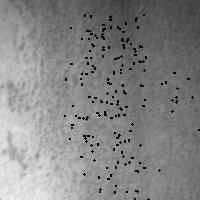pitted_surface: (1, 1, 200, 198), (80, 114, 139, 173), (65, 26, 123, 84), (88, 56, 145, 115), (64, 82, 123, 138), (84, 14, 143, 69), (161, 72, 200, 132), (98, 161, 158, 200)
